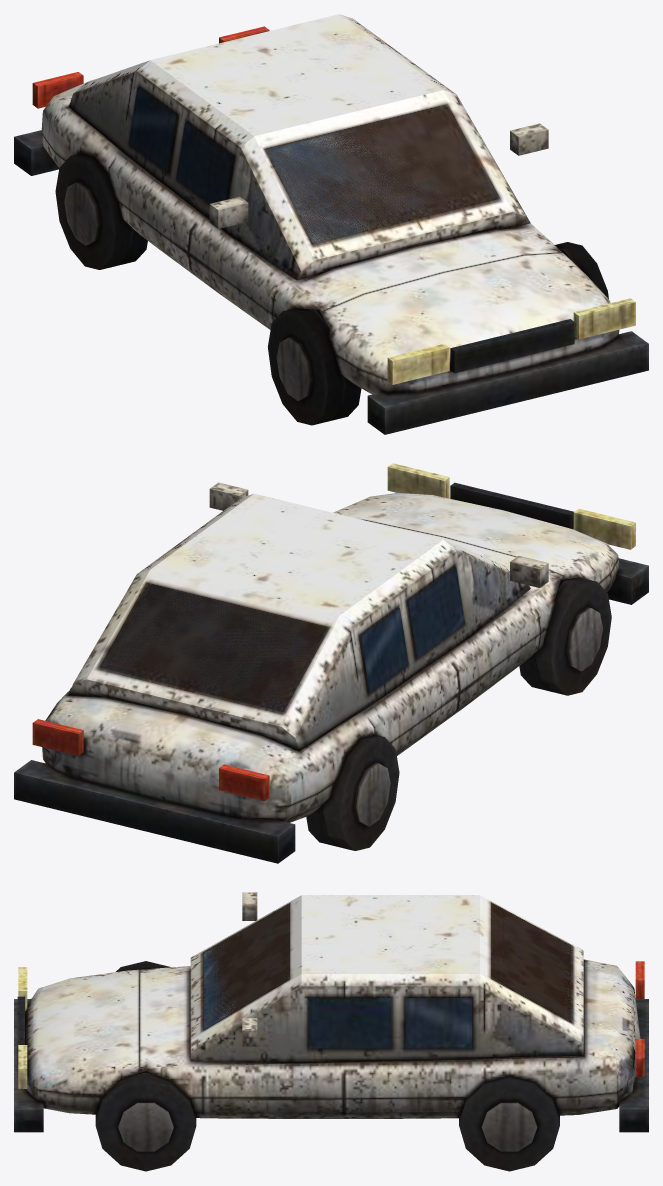
File: car_sedan.glb
3 renders of one model, top to bottom at view 1: azimuth 30°, elevation 25°; view 2: azimuth 150°, elevation 25°; view 3: azimuth 270°, elevation 25°, orthographic. The views are drawn at different scales.
Visible parts, largest first — view 1: car_sedan; view 2: car_sedan; view 3: car_sedan.
Boxes of the visible parts, x1,y1,x2,y2 form: car_sedan: (14,14,648,434); car_sedan: (14,463,648,863); car_sedan: (14,892,648,1171).
Size of the model in its own units: 2.2 by 1.32 by 4.28.
Materials: 8 (8 with a texture image).
